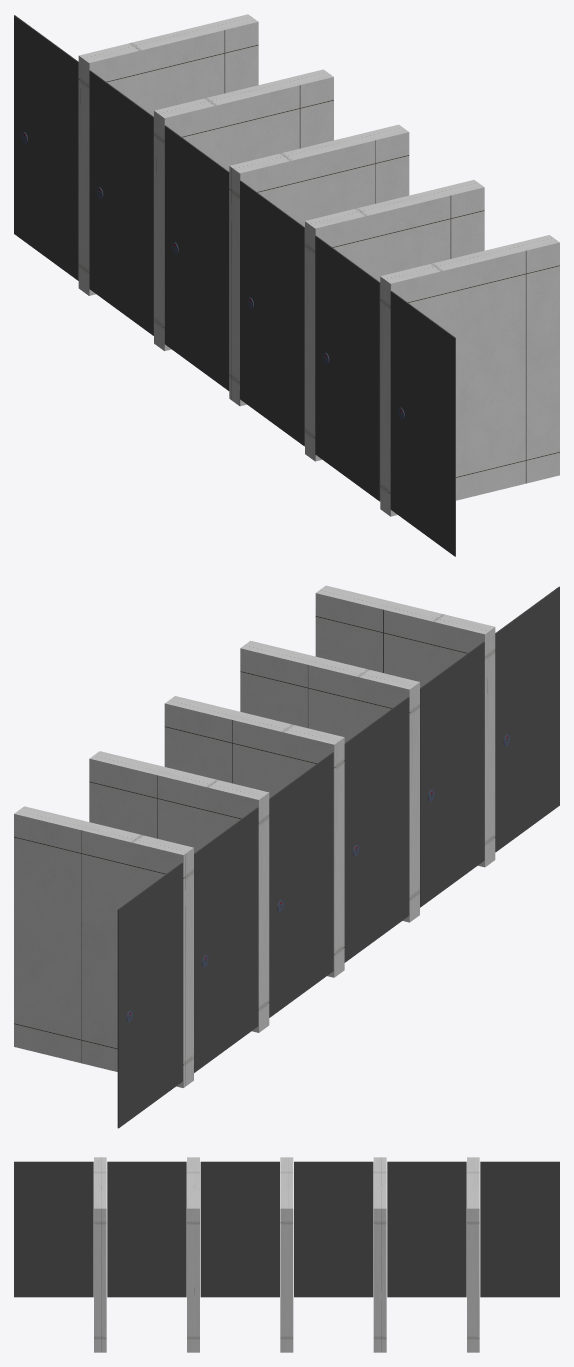
Rendered from bathroomsStalls.fbx.
3 renders of one model, top to bottom at view 1: azimuth 30°, elevation 25°; view 2: azimuth 150°, elevation 25°; view 3: azimuth 270°, elevation 25°, orthographic. The views are drawn at different scales.
Parts seen in each view (by area): view 1: espelho.002; view 2: espelho.002; view 3: espelho.002.
Part boxes in pixels (x1,y1,x2,y2): espelho.002: [14, 14, 559, 556]; espelho.002: [14, 585, 559, 1128]; espelho.002: [14, 1157, 559, 1352].
Bounding box in the file's own units: 199 × 260 × 892.
Materials: 4 (1 with a texture image).
